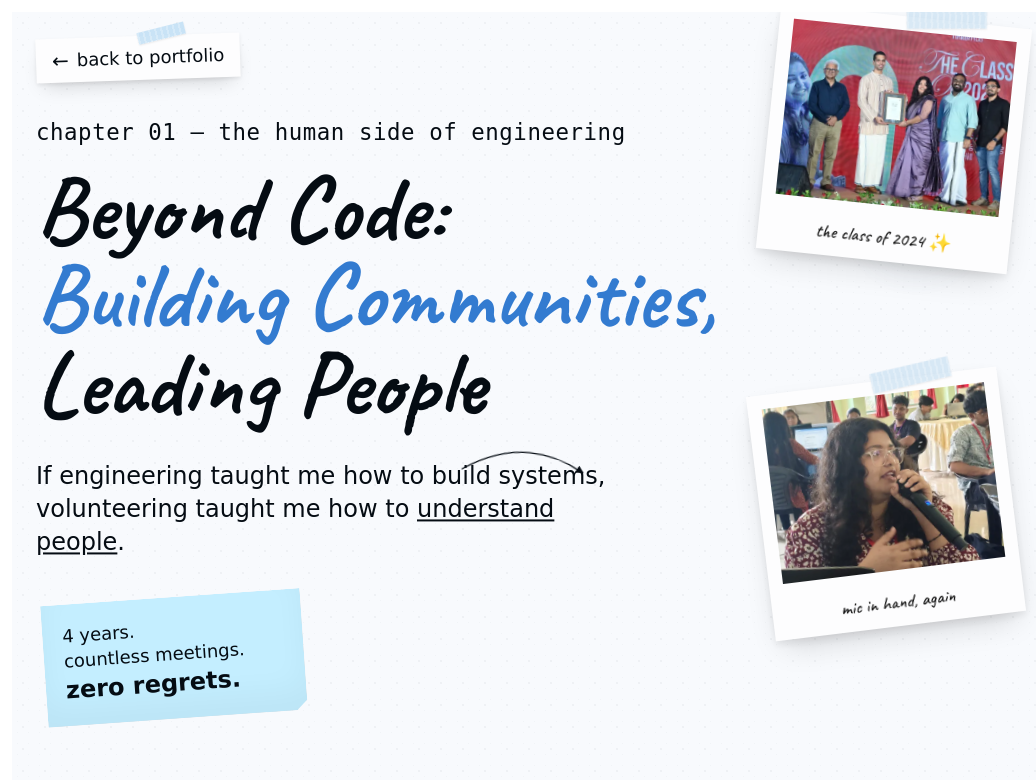
navigation › scrapbook goes home without a full page reload
What coordinates should you click on to do the following:
click the link "← back to portfolio"
I would click on:
 (138, 58)
Its box is [35, 32, 241, 84].
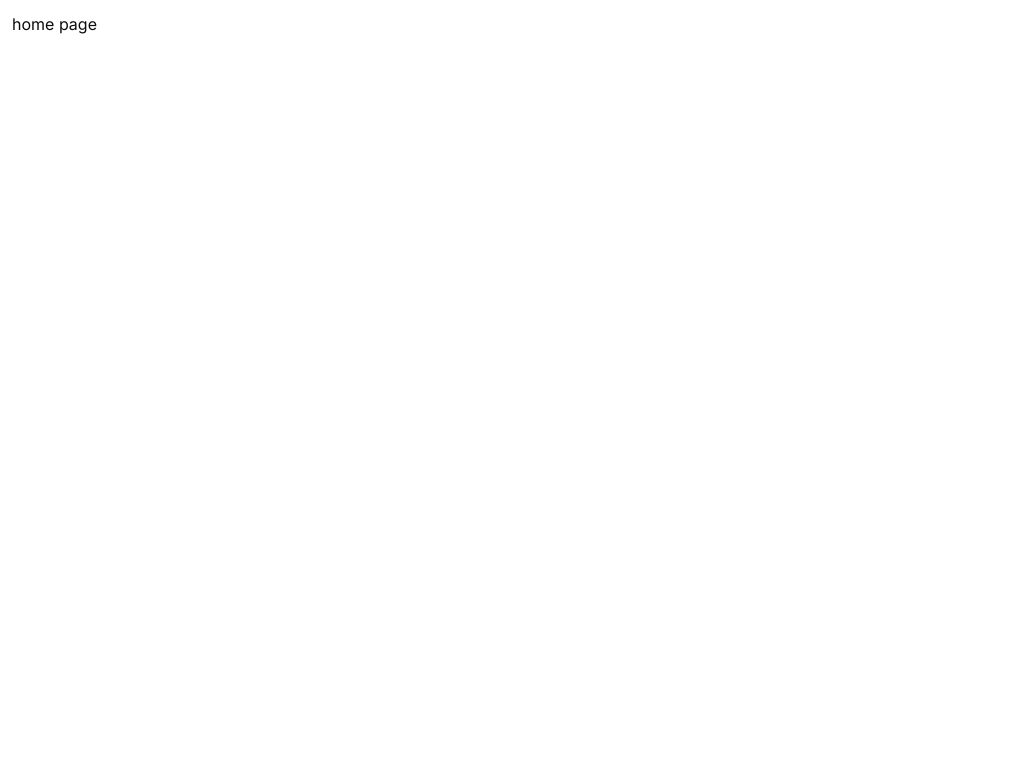
Expected: the heading "home page" is shown, [12, 14, 97, 34]
